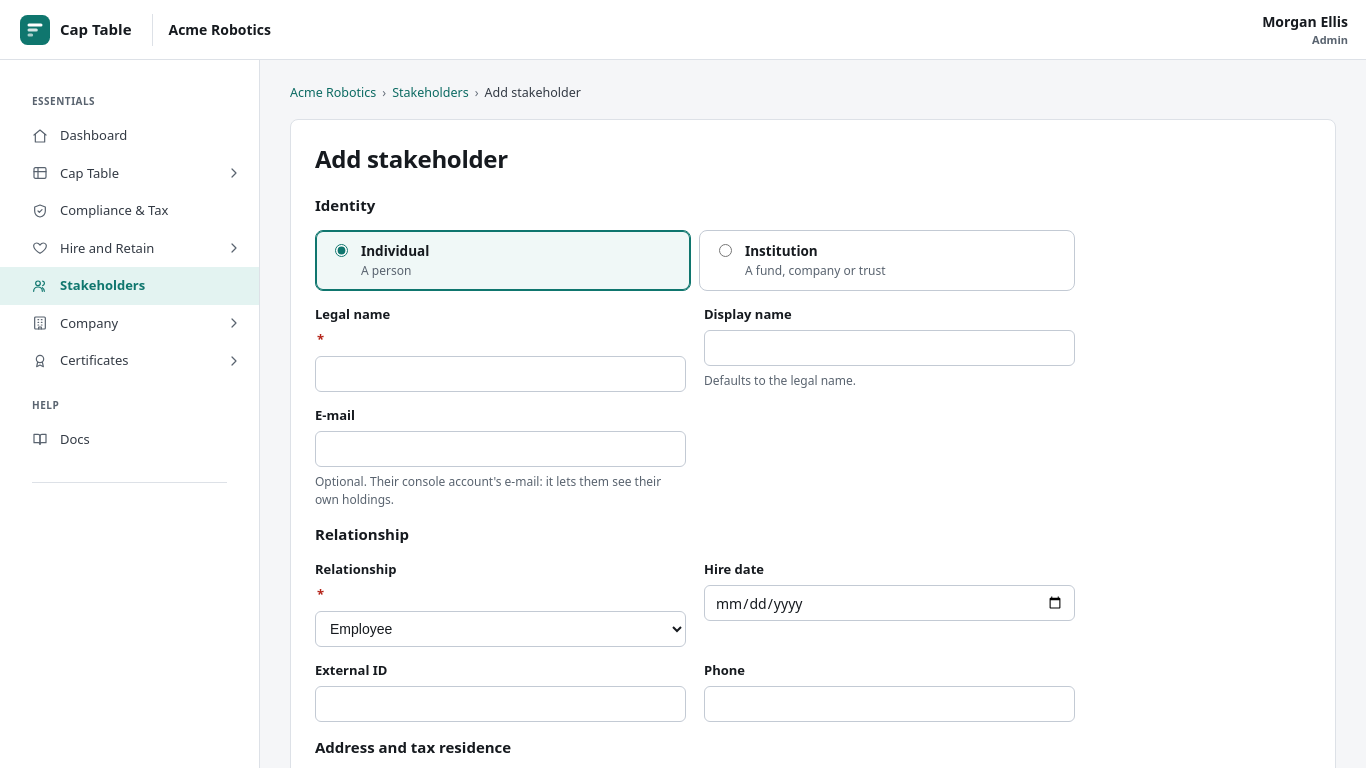
add stakeholder › checks the name, the e-mail and a partial address before anything is sent
Check: the heading "Add stakeholder" is shown, box [315,144,508,174]
In the field labelled "E-mail": (500, 449) [315,431,686,467], type "not-an-address"
(page scrolled)
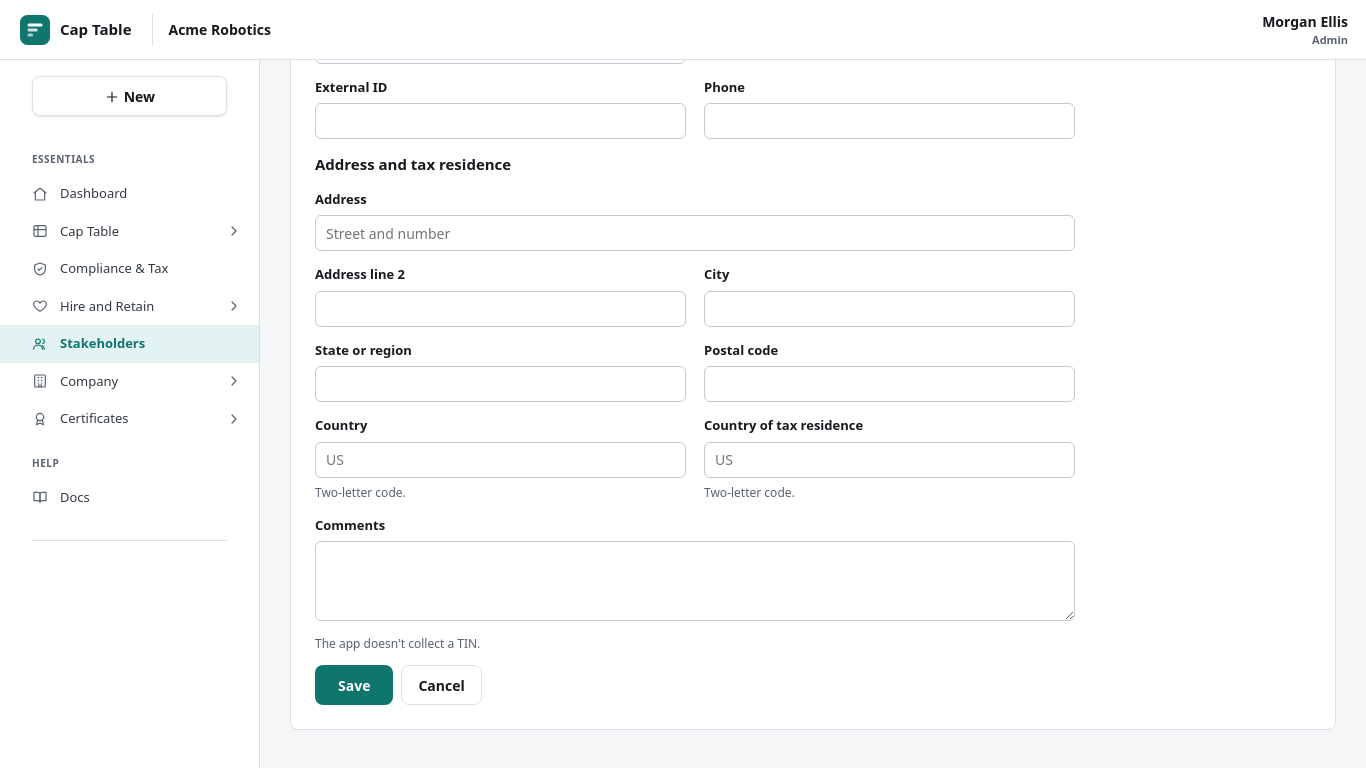
In the field labelled "Postal code": (890, 384) [704,366,1075,402], type "94607"
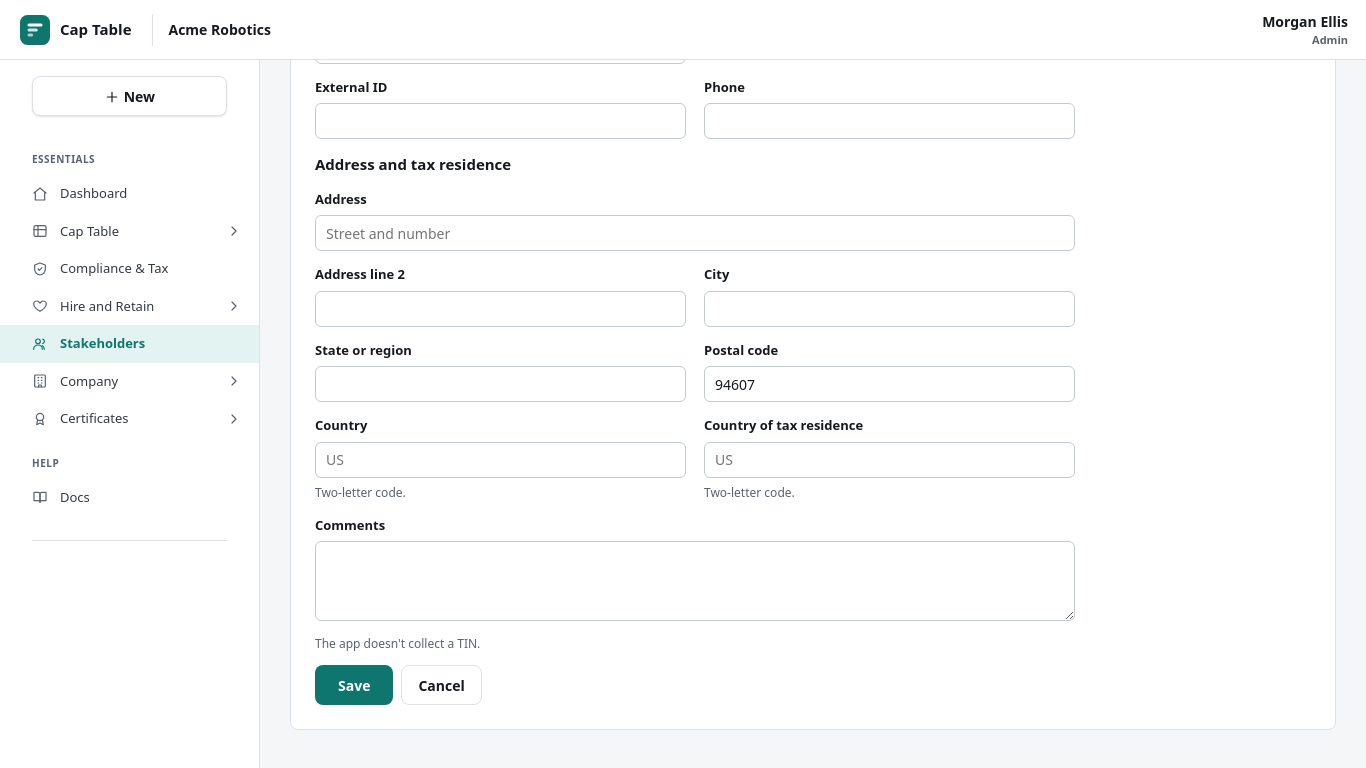
Click the button "Save": (354, 685) [315,665,393,705]
(page scrolled)
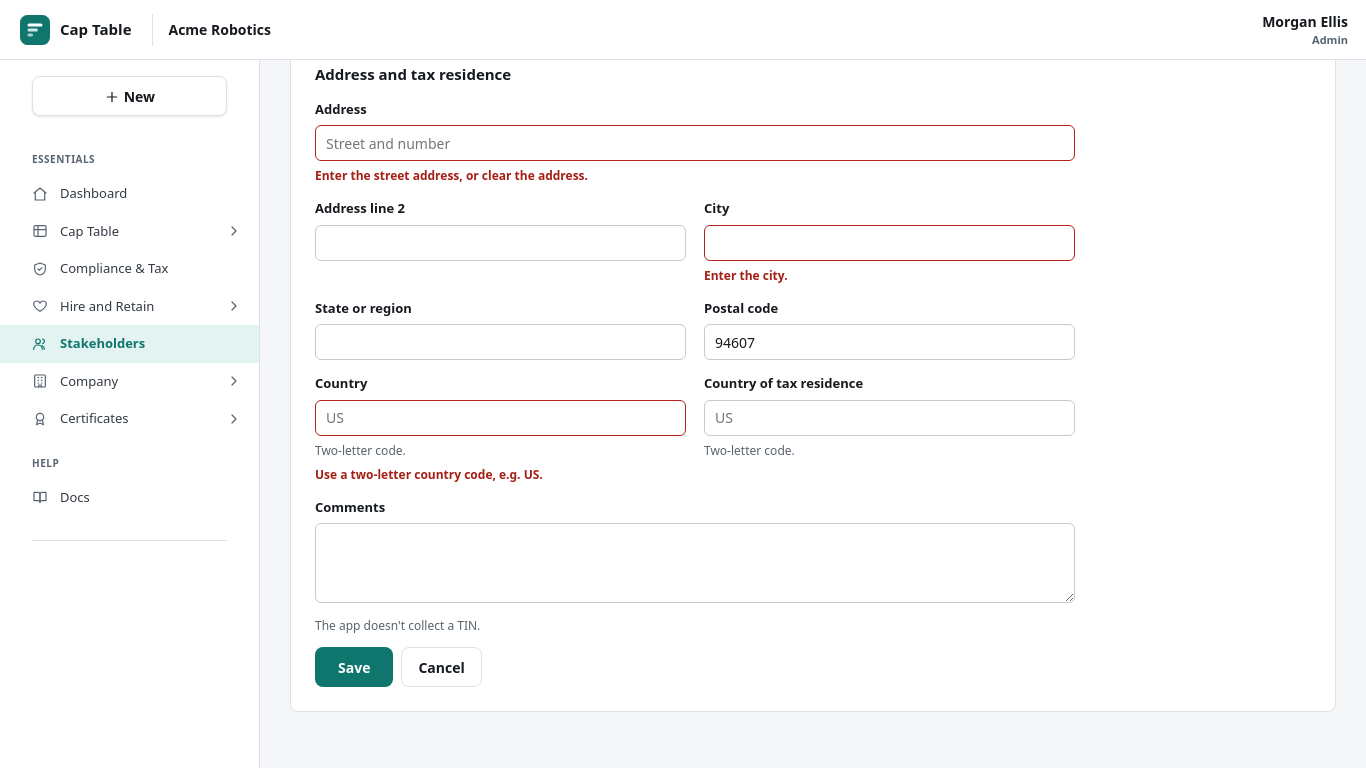
Check: the text "Enter the city." is shown, box [704,266,788,284]
Check: the text "Use a two-letter country code, e.g. US." is shown, box [315,466,543,482]
